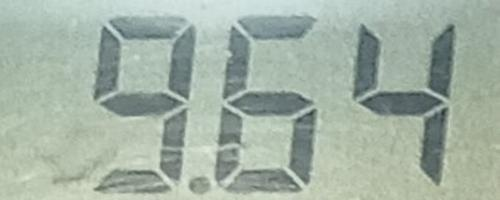.: (187, 173, 214, 198)
